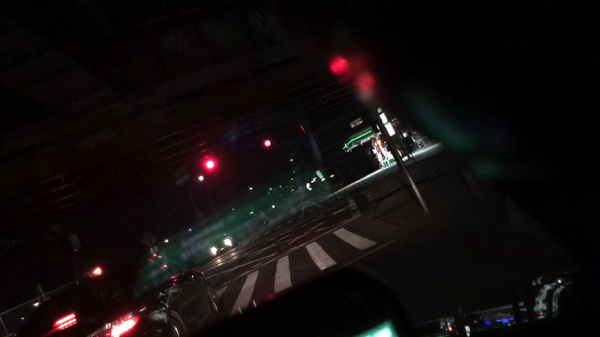car: (16, 256, 221, 337), (211, 235, 234, 256)
traffic light: (200, 157, 218, 173), (261, 138, 273, 149)
traffic sign: (140, 232, 158, 246), (315, 170, 326, 181), (258, 219, 270, 226)
